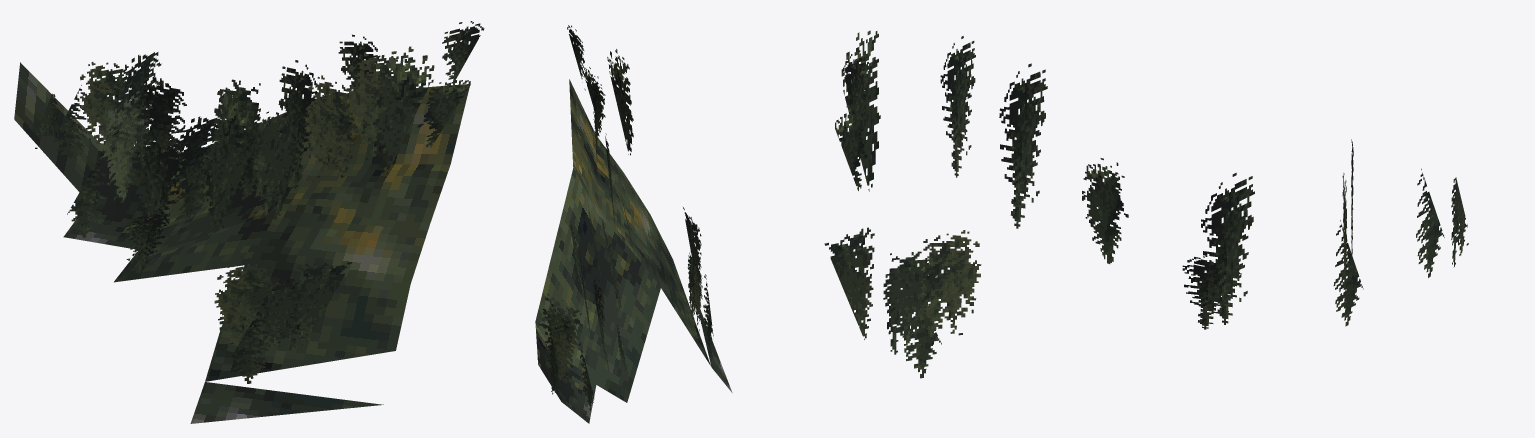
File: world_camden_15_-16.gltf
The picture shows the model from 3 angles, left to right: view 1: azimuth 30°, elevation 25°; view 2: azimuth 150°, elevation 25°; view 3: azimuth 270°, elevation 25°; orthographic projection. The views are drawn at different scales.
Bounding box in the file's own units: 80.04 × 113 × 150.
2 materials, 2 textured.
